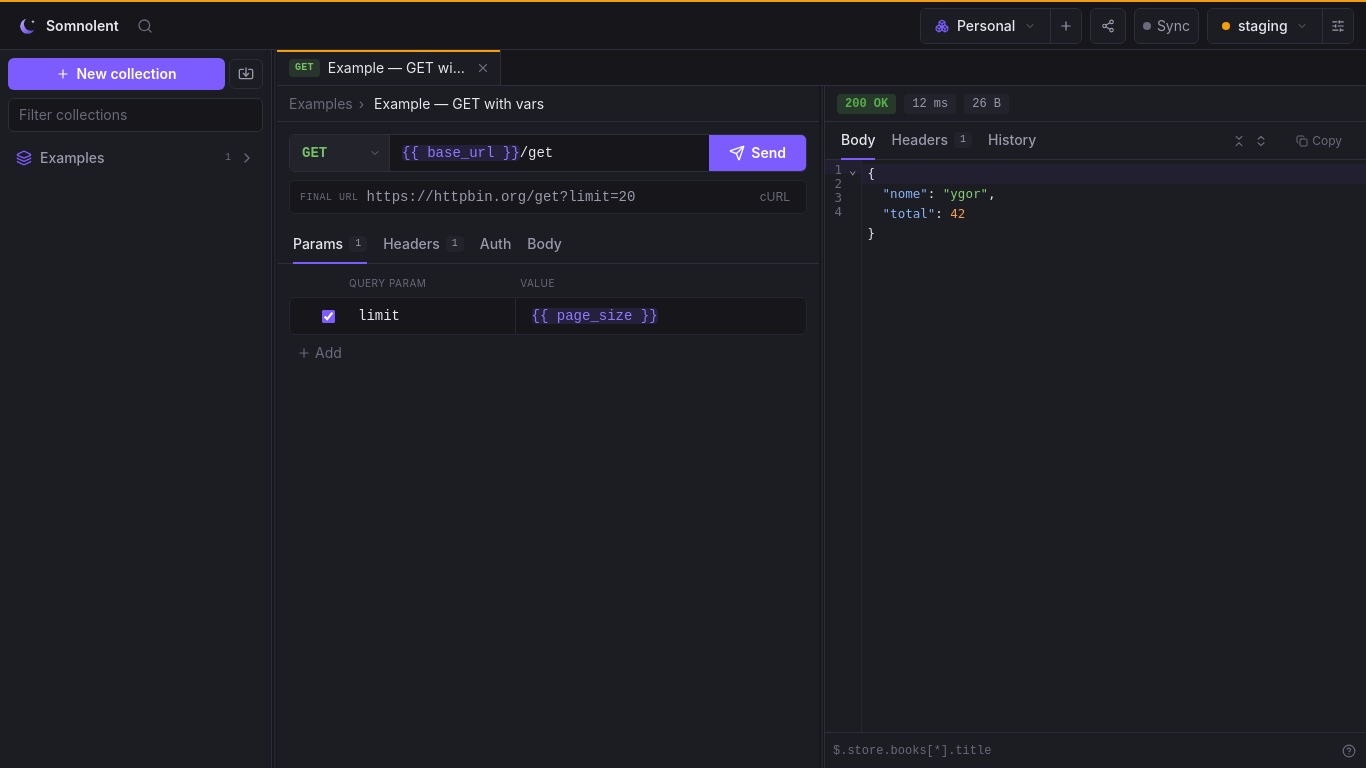
large JSON response › the copy button takes the formatted JSON to the clipboard
The width and height of the screenshot is (1366, 768).
Click the button titled "Copy what is on screen" at (1319, 140), box [1288, 128, 1350, 152]
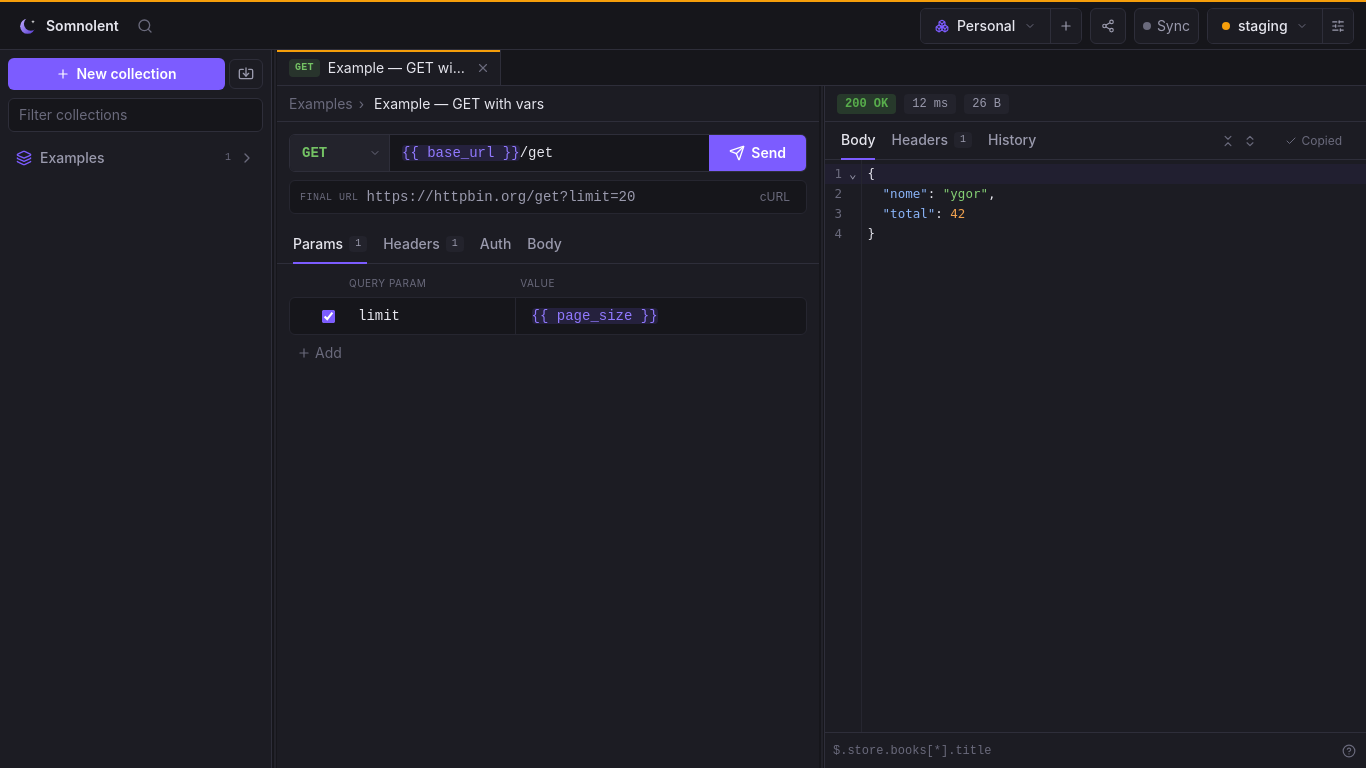
Result: the button "Copied" is shown at [1277, 128, 1350, 152]
